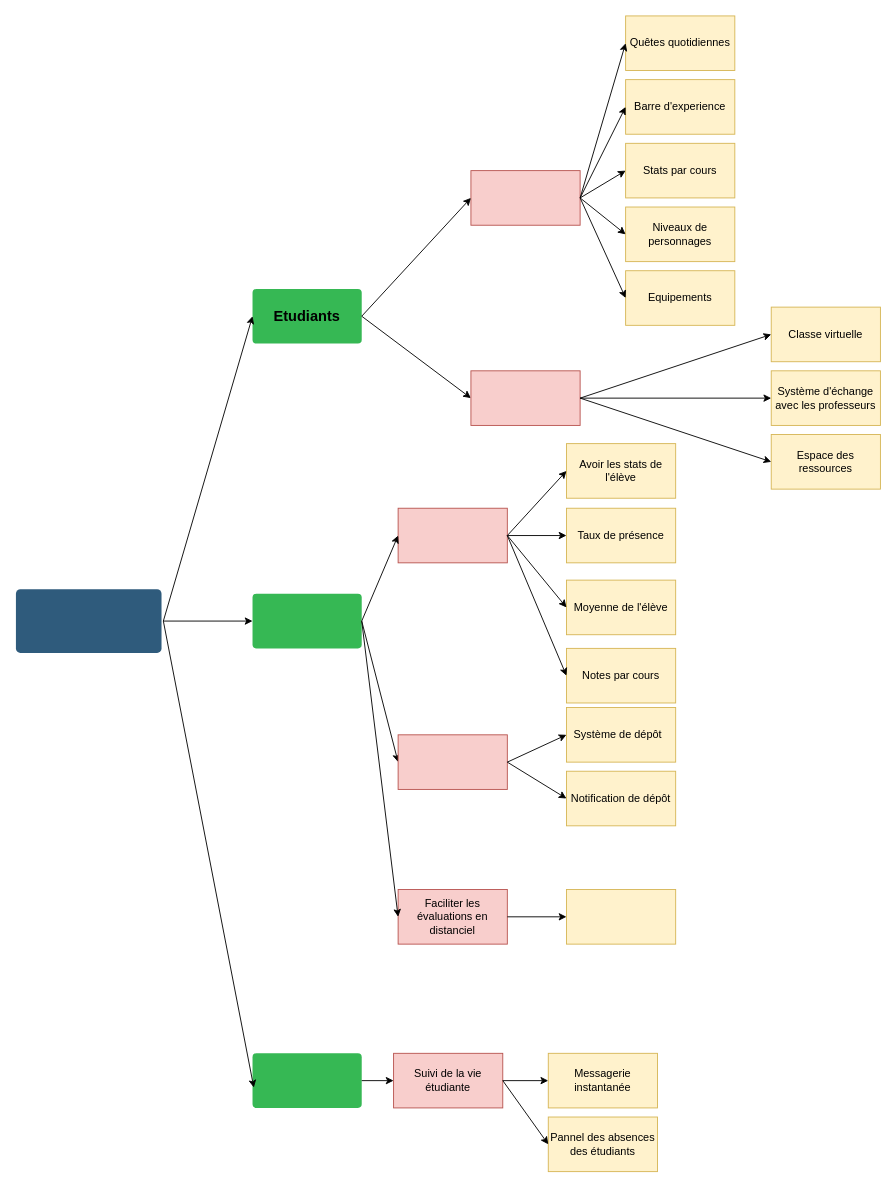
Image size: 896x1188. Some labels were removed from this diagram. Here are the shapes that lost their labels. From the top down, the centre of each, then its label:
pixel 525 197: Rendre attractif les cours
pixel 525 397: Faciliter l'accès aux cours
pixel 452 535: Faciliter le suivi des élèves
pixel 88 620: Avoir un taux de présence maximal
pixel 306 620: Professeurs
pixel 452 761: Faciliter le partage des documents
pixel 621 916: QCM
pixel 306 1080: Administration
